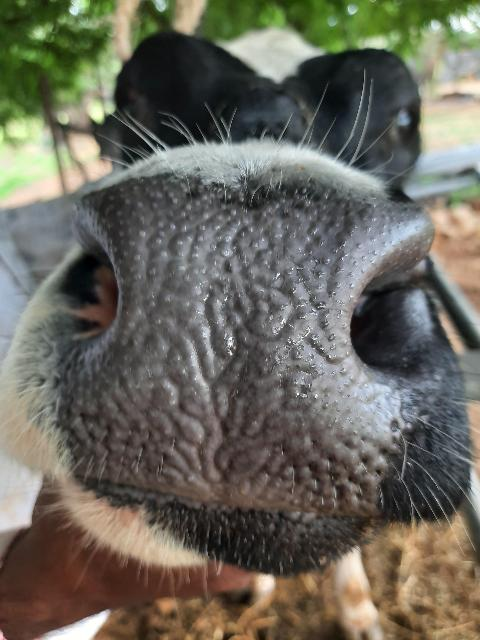Muzzle: (91, 204, 391, 508)
